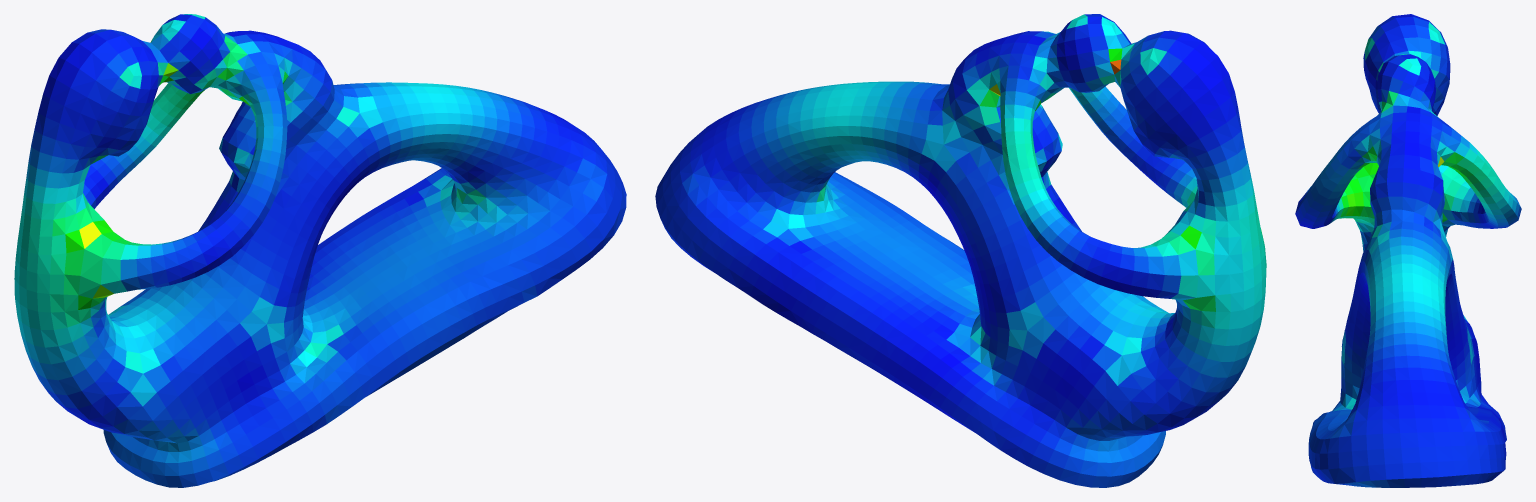
Rendered from fertility_opt_quality.obj.
3 renders of one model, left to right at view 1: azimuth 30°, elevation 25°; view 2: azimuth 150°, elevation 25°; view 3: azimuth 270°, elevation 25°, orthographic. The views are drawn at different scales.
Bounding box in the file's own units: 198 × 143 × 72.72.
